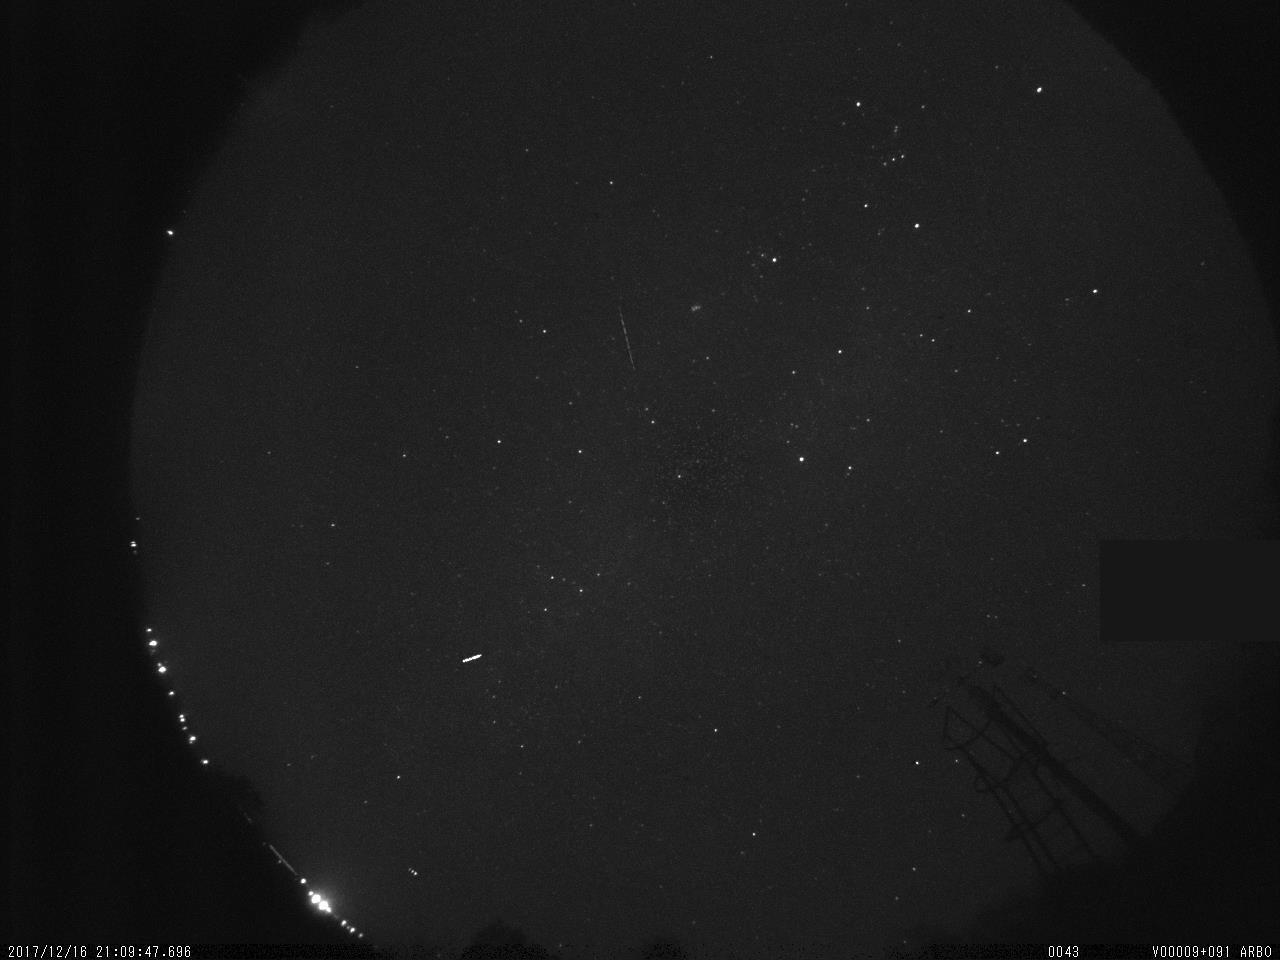meteor: (598, 295, 654, 388)
